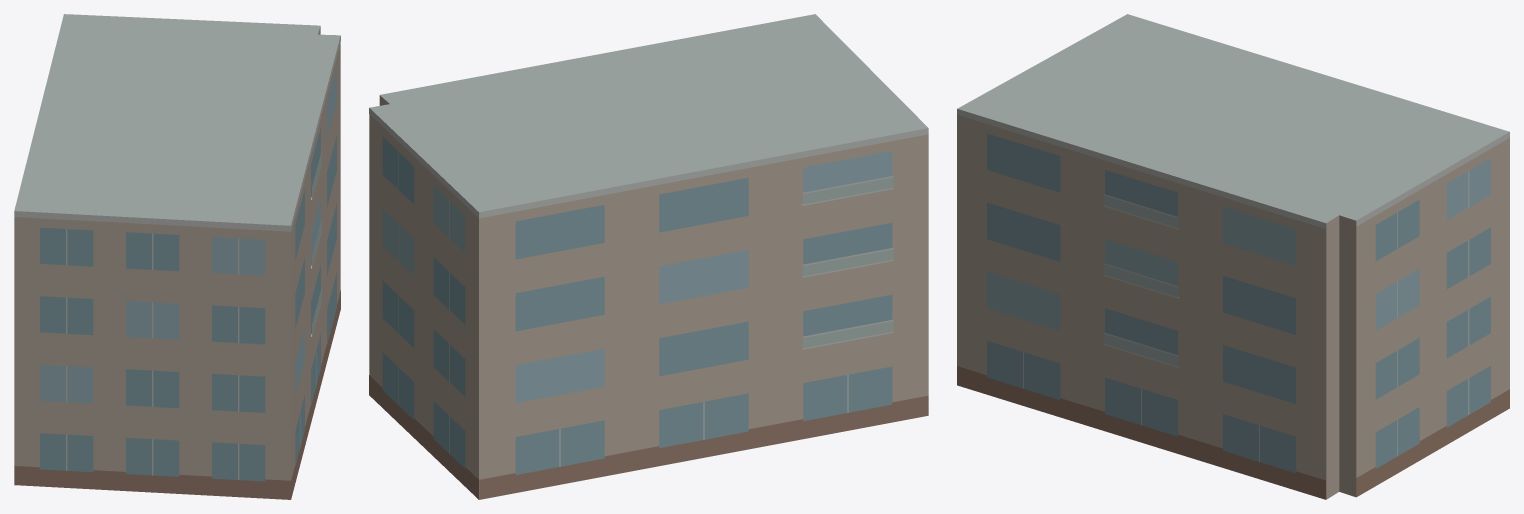
The model's file is survey-upis-32704577.glb.
3 renders of one model, left to right at view 1: azimuth 30°, elevation 25°; view 2: azimuth 150°, elevation 25°; view 3: azimuth 270°, elevation 25°, orthographic. The views are drawn at different scales.
Parts seen in each view (by area): view 1: survey-upis-32704577.tmp; view 2: survey-upis-32704577.tmp; view 3: survey-upis-32704577.tmp.
Boxes of the visible parts, left/top/right/bottom form: survey-upis-32704577.tmp: left=14, top=14, right=340, bottom=499; survey-upis-32704577.tmp: left=369, top=14, right=928, bottom=499; survey-upis-32704577.tmp: left=957, top=14, right=1509, bottom=499.
Bounding box in the file's own units: 18.35 × 11.3 × 20.47.
